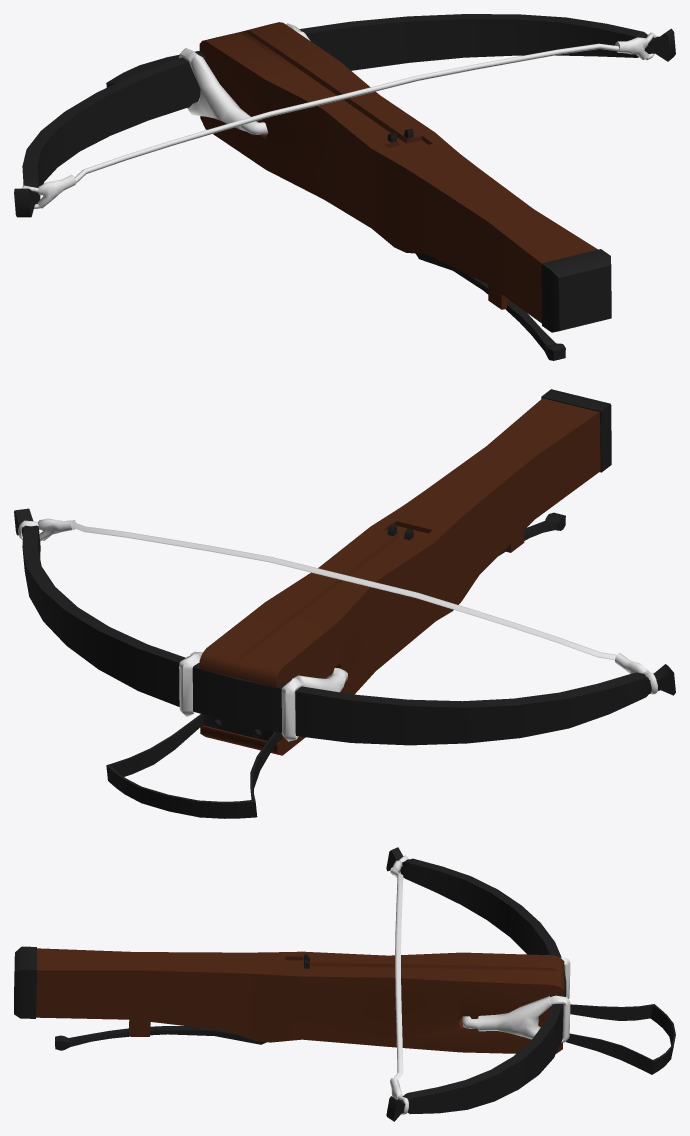
The model's file is Besta.fbx.
3 views of the same model, one above another, from view 1: azimuth 30°, elevation 25°; view 2: azimuth 150°, elevation 25°; view 3: azimuth 270°, elevation 25° (orthographic). The views are drawn at different scales.
Parts seen in each view (by area): view 1: polySurface14, polySurface14.001; view 2: polySurface14, polySurface14.001; view 3: polySurface14, polySurface14.001.
Part boxes in pixels (<box>): polySurface14: <box>14,14,675,360</box>; polySurface14.001: <box>21,32,656,208</box>; polySurface14: <box>14,389,675,818</box>; polySurface14.001: <box>18,518,657,694</box>; polySurface14: <box>14,847,675,1121</box>; polySurface14.001: <box>390,855,408,1114</box>.
Bounding box in the file's own units: 83.29 × 13.78 × 91.41.
